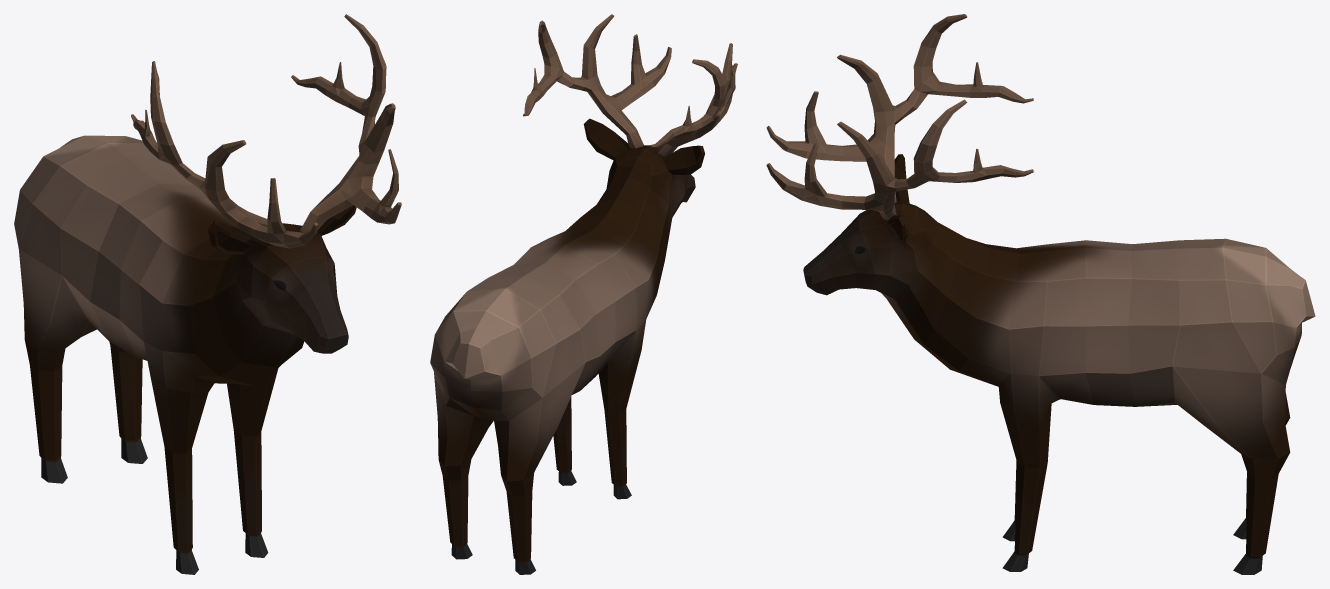
The model's file is 0dac29e1-fae0-4cad-b117-03b6c0dbbd37.glb.
3 views of the same model, side by side, from view 1: azimuth 30°, elevation 25°; view 2: azimuth 150°, elevation 25°; view 3: azimuth 270°, elevation 25° (orthographic). The views are drawn at different scales.
Parts seen in each view (by area): view 1: Elk_mesh; view 2: Elk_mesh; view 3: Elk_mesh.
Part boxes in pixels (box(x1,y1,x2,y2)): Elk_mesh: box(14, 14, 401, 574); Elk_mesh: box(430, 14, 737, 574); Elk_mesh: box(766, 14, 1315, 574).
Bounding box in the file's own units: 7.04 × 15.74 × 15.79.
Materials: 1 (1 with a texture image).
